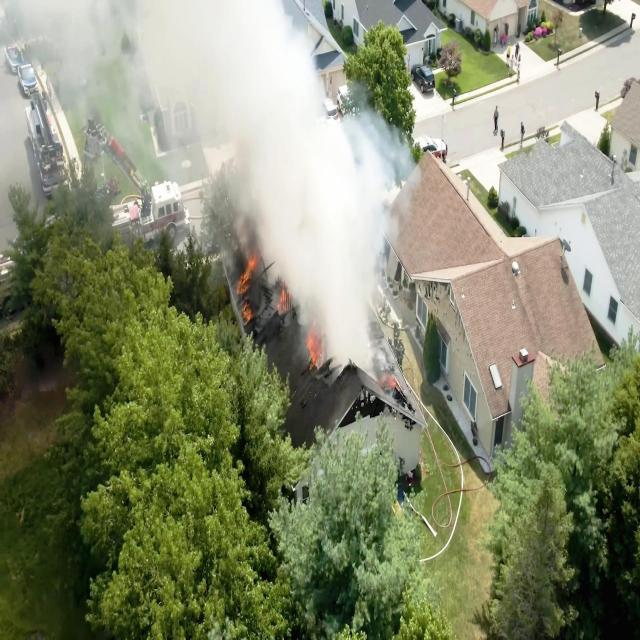Fire: (236, 253, 258, 325), (307, 322, 322, 376), (276, 281, 290, 320)
Smoke: (0, 0, 395, 239), (264, 248, 384, 290), (296, 299, 378, 329), (327, 336, 379, 374)
